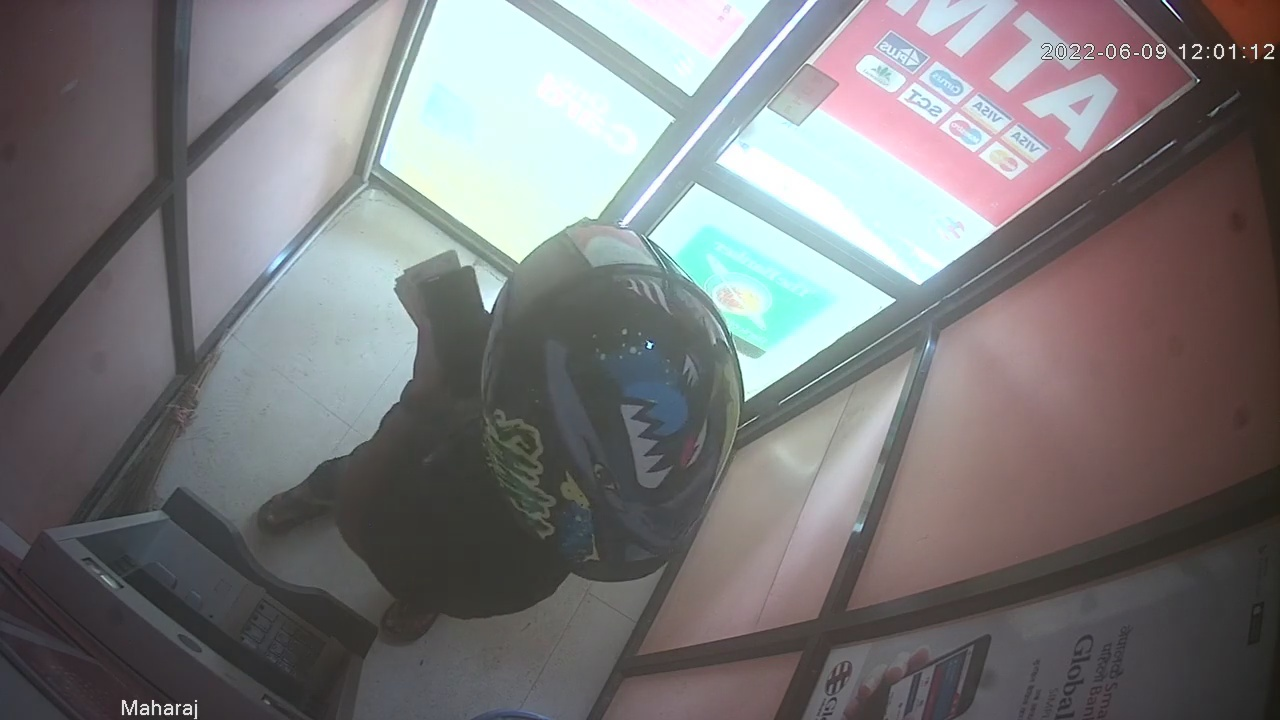helmet: (477, 219, 743, 584)
person: (256, 214, 745, 648)
